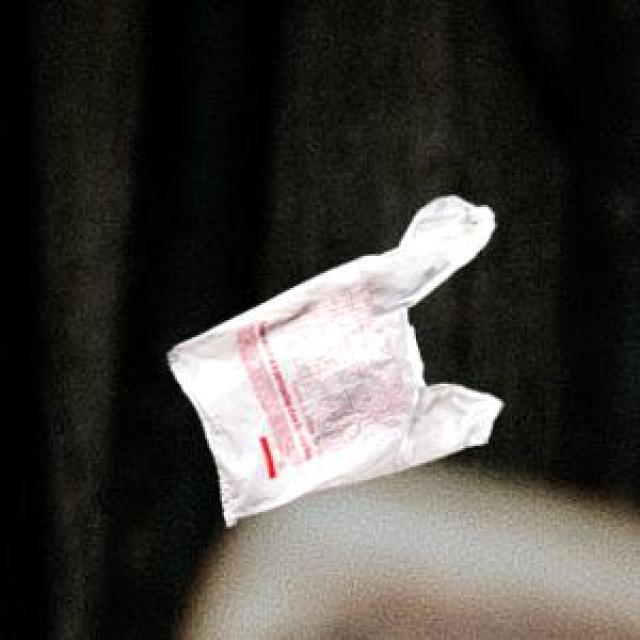Plastic_Bag: (165, 193, 500, 524)
